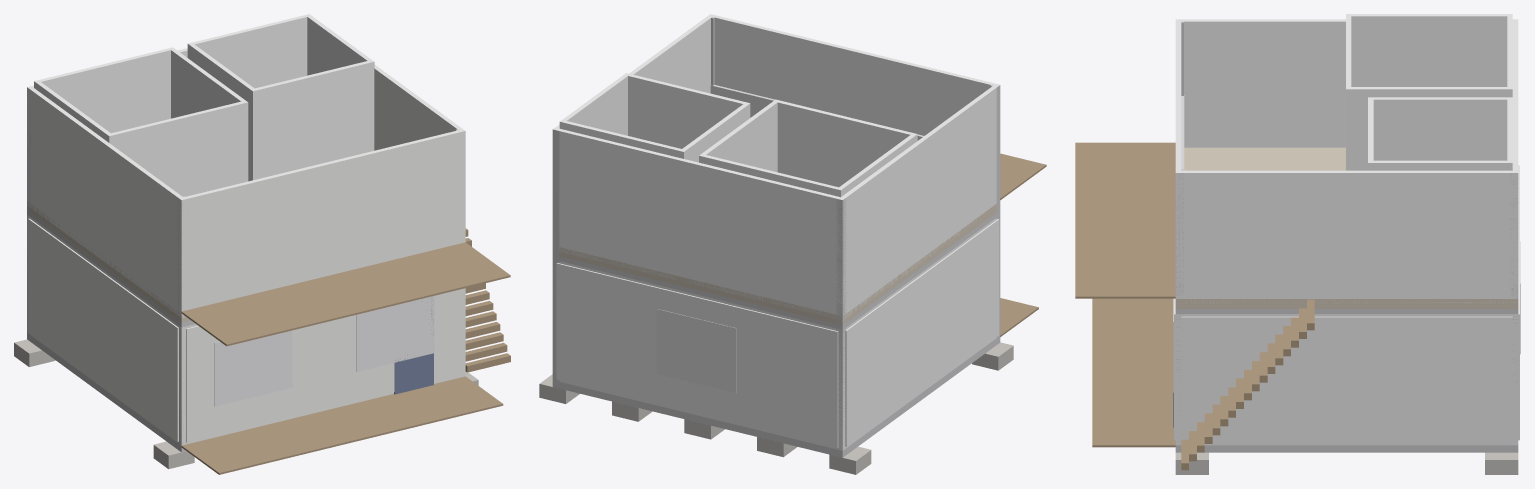
The model's file is Duplex-20-Premium-LOD1.glb.
3 views of the same model, side by side, from view 1: azimuth 30°, elevation 25°; view 2: azimuth 150°, elevation 25°; view 3: azimuth 270°, elevation 25° (orthographic). The views are drawn at different scales.
Parts seen in each view (by area): view 1: ExteriorShellUpper, ExteriorPanelsPremium, StudyUpper, BedroomUpper, BalconyUpper, BalconyGround, WindowsLargeUpgrade, StaircaseExternal, ExteriorShell, FoundationBlocks, EntryDoor, BaseFrame (+3 smaller); view 2: ExteriorShellUpper, ExteriorPanelsPremium, BedroomUpper, StudyUpper, WindowsLargeUpgrade, VerticalStructure, FloorUpper, FoundationBlocks, BaseFrame, ExteriorShell, TopFrame, BalconyUpper (+2 smaller); view 3: ExteriorShellUpper, ExteriorPanelsPremium, BalconyUpper, BedroomUpper, BalconyGround, StudyUpper, FloorUpper, StaircaseExternal, ExteriorShell, BaseFrame, TopFrame, FoundationBlocks (+1 smaller).
Boxes of the visible parts, <box> form: ExteriorShellUpper: <box>27,48,465,317</box>; ExteriorPanelsPremium: <box>28,218,461,442</box>; StudyUpper: <box>187,14,374,181</box>; BedroomUpper: <box>34,47,248,196</box>; BalconyUpper: <box>181,242,510,346</box>; BalconyGround: <box>181,376,503,474</box>; WindowsLargeUpgrade: <box>214,295,434,406</box>; StaircaseExternal: <box>465,228,510,372</box>; ExteriorShell: <box>27,214,465,445</box>; FoundationBlocks: <box>14,339,478,469</box>; EntryDoor: <box>394,299,433,394</box>; BaseFrame: <box>27,333,186,452</box>; ExteriorShellUpper: <box>553,14,999,320</box>; ExteriorPanelsPremium: <box>556,219,999,447</box>; BedroomUpper: <box>699,99,917,197</box>; StudyUpper: <box>559,73,750,162</box>; WindowsLargeUpgrade: <box>656,309,736,393</box>; VerticalStructure: <box>552,17,1000,449</box>; FloorUpper: <box>553,204,996,325</box>; FoundationBlocks: <box>539,342,1013,474</box>; BaseFrame: <box>552,336,1000,457</box>; ExteriorShell: <box>553,218,996,450</box>; TopFrame: <box>559,213,996,329</box>; BalconyUpper: <box>1000,153,1046,199</box>; ExteriorShellUpper: <box>1175,19,1518,303</box>; ExteriorPanelsPremium: <box>1174,165,1519,443</box>; BalconyUpper: <box>1075,142,1175,298</box>; BedroomUpper: <box>1346,14,1512,170</box>; BalconyGround: <box>1092,298,1175,447</box>; StudyUpper: <box>1368,97,1512,170</box>; FloorUpper: <box>1175,147,1518,308</box>; StaircaseExternal: <box>1181,299,1314,470</box>; ExteriorShell: <box>1175,314,1518,445</box>; BaseFrame: <box>1175,445,1518,452</box>; TopFrame: <box>1175,309,1518,313</box>; FoundationBlocks: <box>1175,452,1518,474</box>.
Bounding box in the file's own units: 7.94 × 6 × 8.
